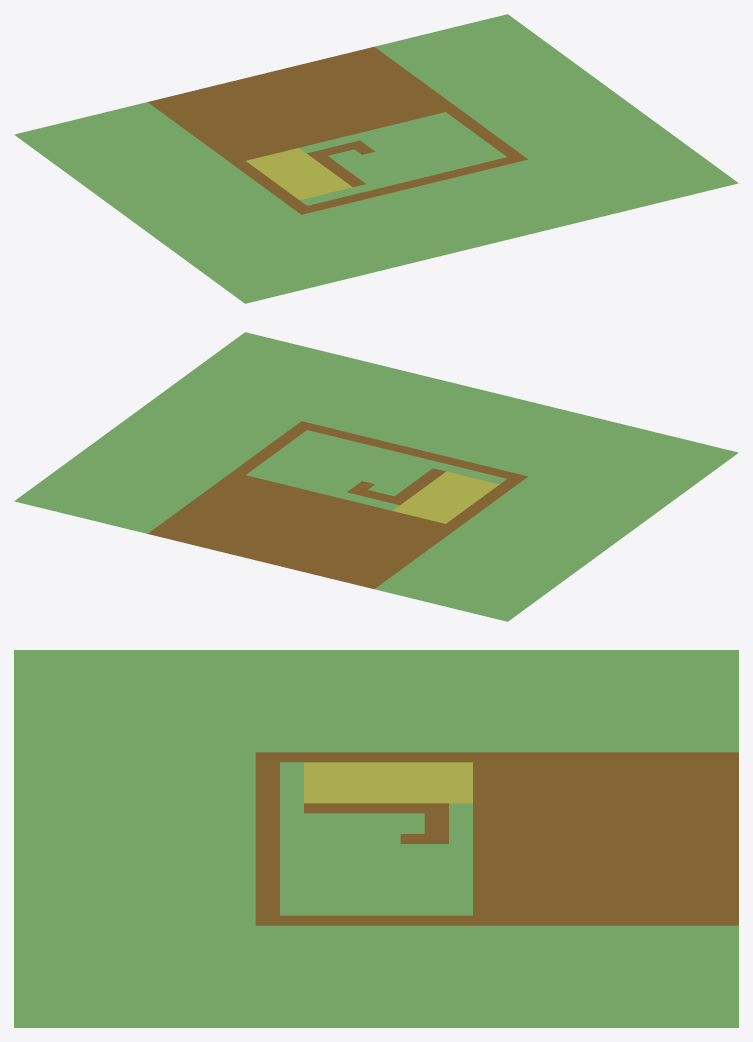
The picture shows the model from 3 angles, top to bottom: view 1: azimuth 30°, elevation 25°; view 2: azimuth 150°, elevation 25°; view 3: azimuth 270°, elevation 25°; orthographic projection. The views are drawn at different scales.
Visible parts, largest first — view 1: pPlane1; view 2: pPlane1; view 3: pPlane1.
Part boxes in pixels (x1,y1,x2,y2): pPlane1: (14,14,738,303); pPlane1: (14,332,738,621); pPlane1: (14,650,738,1027).
Bounding box in the file's own units: 7400 × 0 × 6000.
